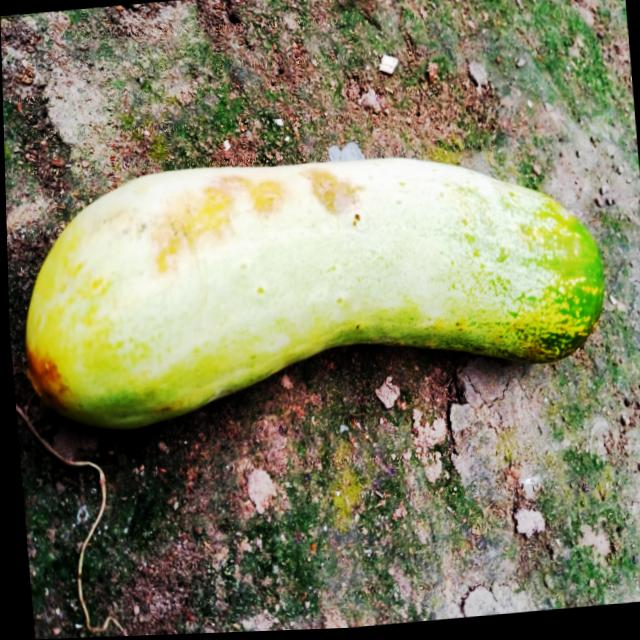Belly-Rot: (132, 160, 370, 281)
